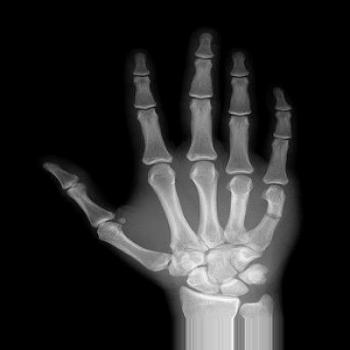Fracture: (257, 207, 290, 226)
